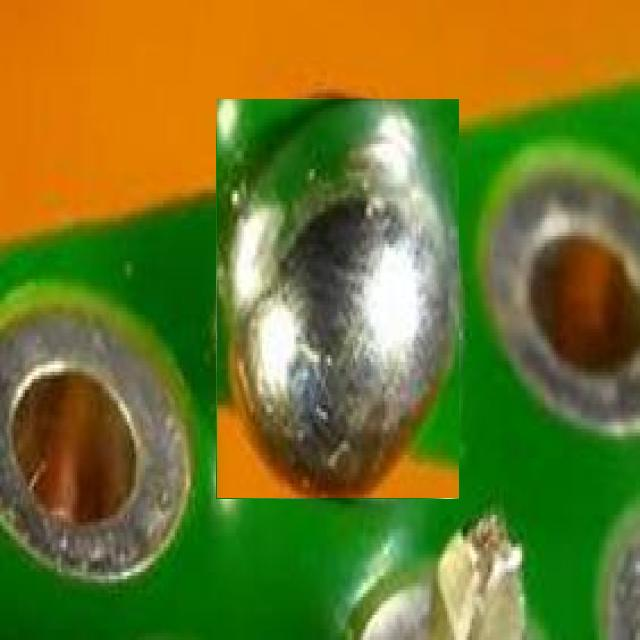redundant: (216, 99, 459, 498)
